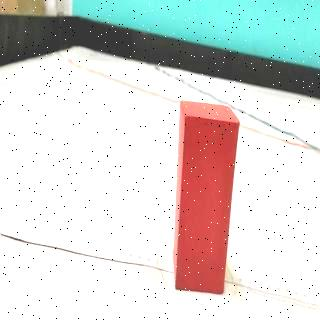redbox: (173, 100, 240, 294)
